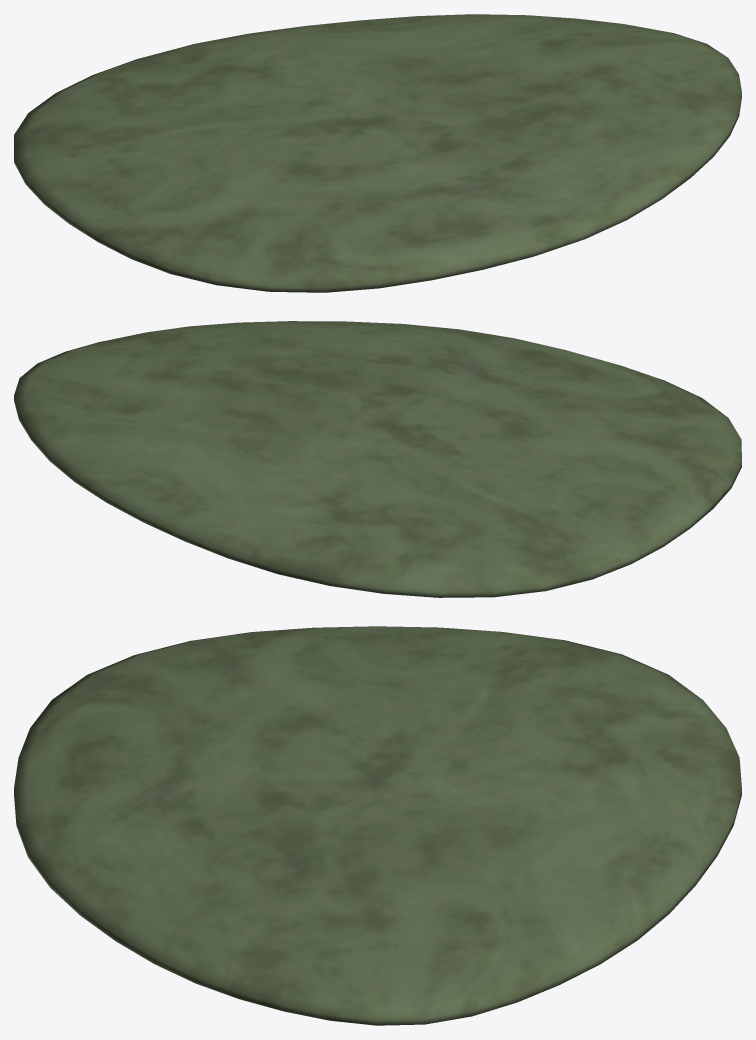
The model's file is jade_river_flat_02.glb.
3 views of the same model, one above another, from view 1: azimuth 30°, elevation 25°; view 2: azimuth 150°, elevation 25°; view 3: azimuth 270°, elevation 25° (orthographic). The views are drawn at different scales.
Visible parts, largest first — view 1: jade_river_flat_02; view 2: jade_river_flat_02; view 3: jade_river_flat_02.
Boxes of the visible parts, bbox=[...] form: jade_river_flat_02: bbox=[14, 14, 741, 292]; jade_river_flat_02: bbox=[14, 321, 741, 597]; jade_river_flat_02: bbox=[14, 626, 741, 1025].
Bounding box in the file's own units: 0.0907 × 0.00687 × 0.071.
Materials: 1 (1 with a texture image).
